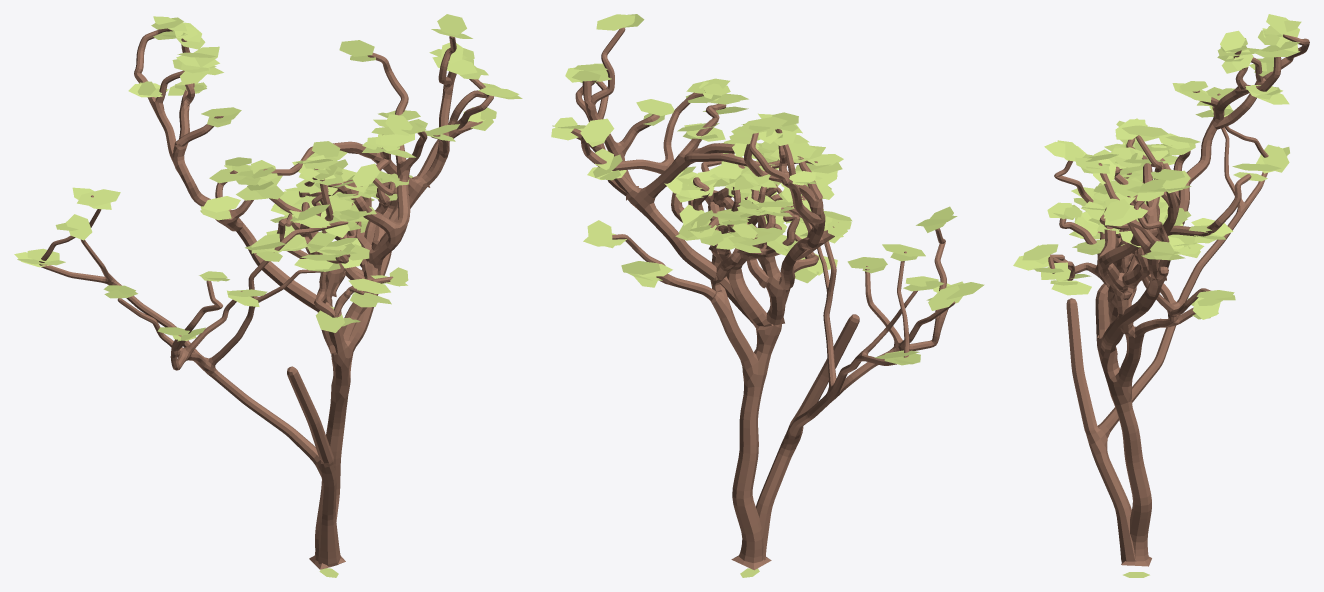
3 renders of one model, left to right at view 1: azimuth 30°, elevation 25°; view 2: azimuth 150°, elevation 25°; view 3: azimuth 270°, elevation 25°, orthographic. The views are drawn at different scales.
Parts seen in each view (by area): view 1: Arbusto; view 2: Arbusto, Cube.060; view 3: Arbusto, Cube.003, Cube.138, Cube.192, Cube.144, Cube.165.
Part boxes in pixels (x1,y1,x2,y2): Arbusto: (39,28,493,569); Arbusto: (571,27,955,570); Cube.060: (580,118,614,142); Arbusto: (1048,34,1309,566); Cube.003: (1260,144,1289,172); Cube.138: (1051,280,1091,295); Cube.192: (1103,199,1130,221); Cube.144: (1022,244,1058,260); Cube.165: (1220,30,1245,52).
Bounding box in the file's own units: 2.71 × 3.2 × 1.69.
